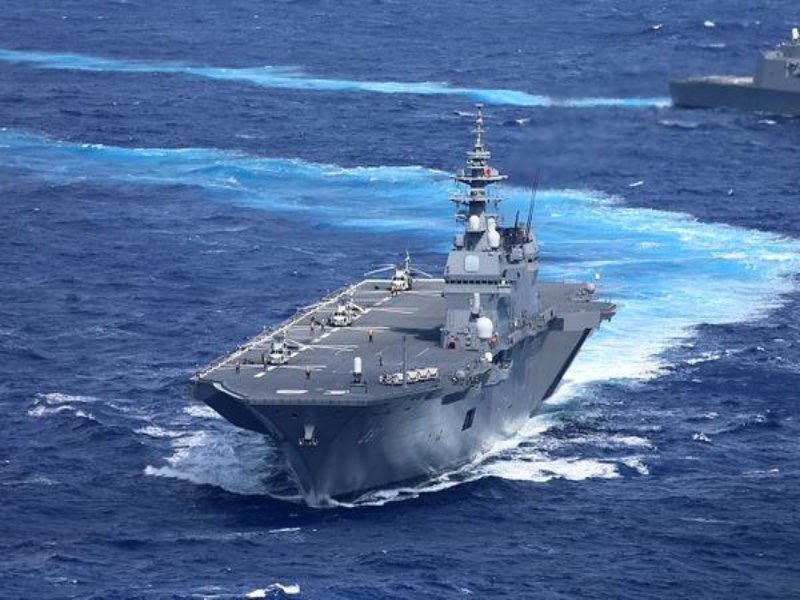carrier: (180, 146, 614, 507)
cruise: (660, 24, 800, 110)
